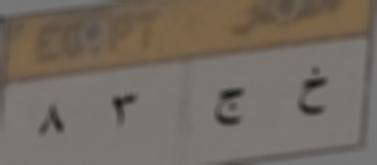3: (111, 86, 140, 129)
8: (34, 100, 68, 138)
jeem: (213, 81, 247, 132)
khaa: (292, 61, 330, 119)
